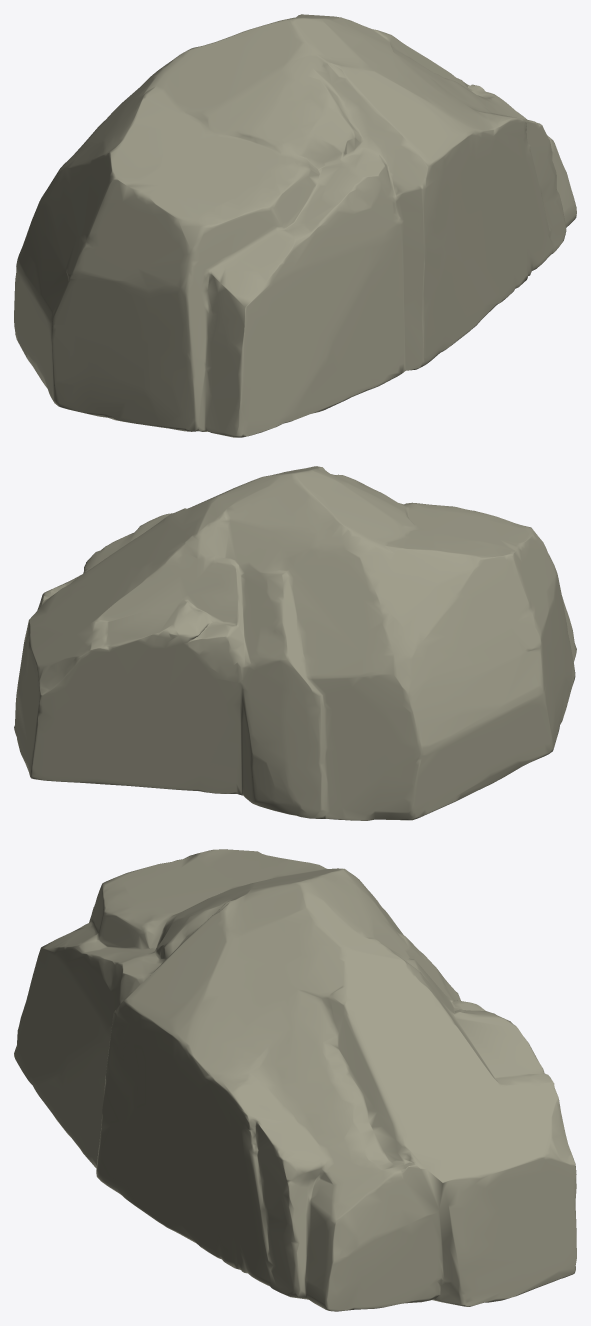
3 views of the same model, one above another, from view 1: azimuth 30°, elevation 25°; view 2: azimuth 150°, elevation 25°; view 3: azimuth 270°, elevation 25° (orthographic). The views are drawn at different scales.
Parts seen in each view (by area): view 1: SM_Cliff_Bottom_Rock_01_LOD0; view 2: SM_Cliff_Bottom_Rock_01_LOD0; view 3: SM_Cliff_Bottom_Rock_01_LOD0.
Part boxes in pixels (x1,y1,x2,y2): SM_Cliff_Bottom_Rock_01_LOD0: [14, 14, 576, 437]; SM_Cliff_Bottom_Rock_01_LOD0: [14, 466, 576, 820]; SM_Cliff_Bottom_Rock_01_LOD0: [14, 849, 576, 1311].
Bounding box in the file's own units: 9.78 × 5.2 × 8.33.
